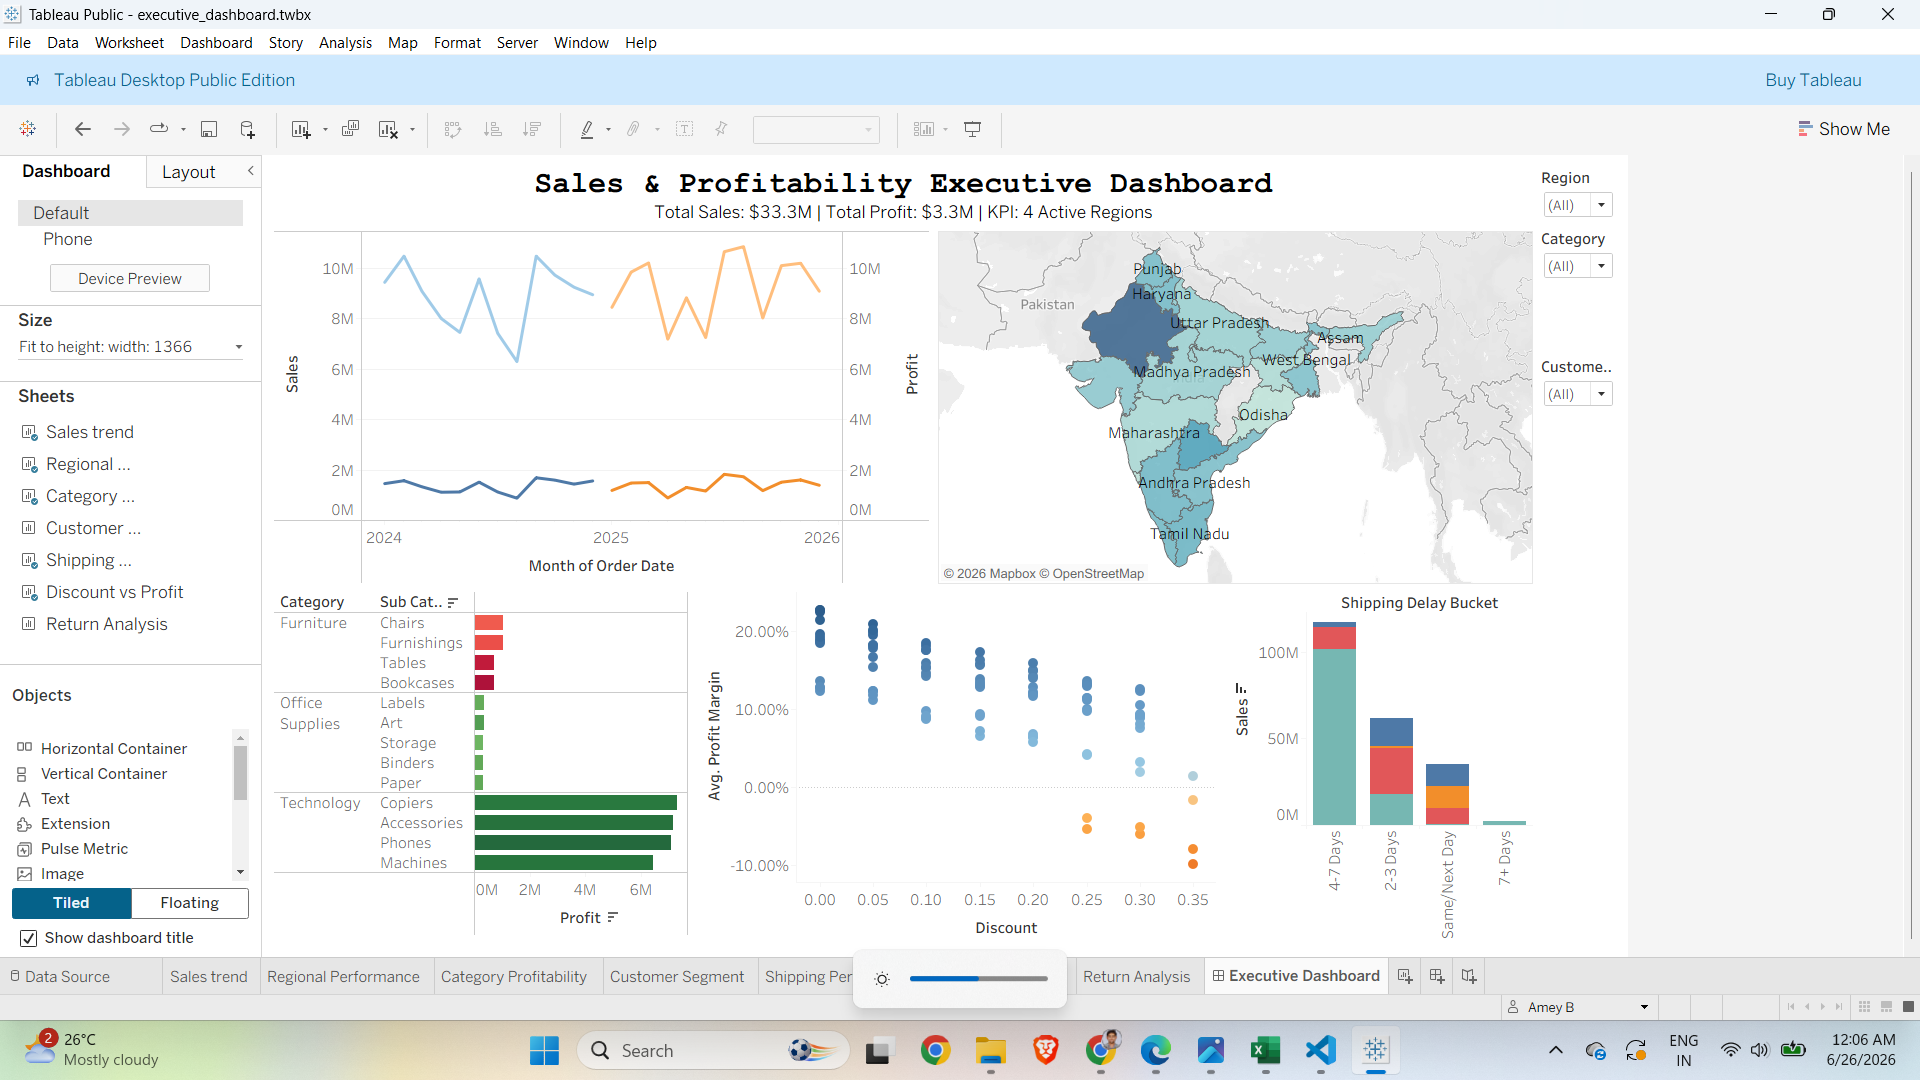

The dashboard page shown, as its layout file describes it:
{"tool":"tableau","page":{"name":"Executive Dashboard","canvas":[1000,1000],"units":"permille","ordinal":0},"visuals":[{"type":"title","box":[5.9,10,927.5,79.8]},{"type":"filter","title":"Sales trend","param":"[federated.1iebiw10bxbxkd13mzcti1a54hbl].[none:region:nk]","box":[933.4,10,60.8,76.1]},{"type":"filter","title":"Sales trend","param":"[federated.1iebiw10bxbxkd13mzcti1a54hbl].[none:category:nk]","box":[933.4,86,60.8,159.6]},{"type":"worksheet","title":"Sales trend","mark":"Automatic","rows":["sales","profit"],"cols":["order_date"],"box":[5.9,89.8,486.2,450.1]},{"type":"worksheet","title":"Regional Performance","mark":"Multipolygon","box":[492.1,89.8,441.3,450.1]},{"type":"filter","title":"Sales trend","param":"[federated.1iebiw10bxbxkd13mzcti1a54hbl].[none:customer_segment:nk]","box":[933.4,245.7,60.8,76.1]},{"type":"worksheet","title":"Category Profitability","mark":"Automatic","rows":["category","sub_category"],"cols":["profit"],"box":[5.9,539.9,308.6,450.1]},{"type":"worksheet","title":"Discount vs Profit","mark":"Circle","rows":["Calculation_0745759881949184"],"cols":["discount"],"box":[314.5,539.9,387,450.1]},{"type":"worksheet","title":"Shipping Performance","mark":"Automatic","rows":["sales"],"cols":["Calculation_0745760088350725"],"box":[701.5,539.9,231.9,450.1]}]}

Visuals, with their boxes on the dashboard's canvas, which has no fixed pixel size, in thousandths of its width and height (x1, y1, x2, y2). These are canvas units, not pixel positions in the 1920x1080 screenshot, which may show the page scaled, cropped or inside an application window:
title: (6, 10, 933, 90)
"Sales trend" filter: (933, 10, 994, 86)
"Sales trend" filter: (933, 86, 994, 246)
"Sales trend" worksheet: (6, 90, 492, 540)
"Regional Performance" worksheet (Multipolygon marks): (492, 90, 933, 540)
"Sales trend" filter: (933, 246, 994, 322)
"Category Profitability" worksheet: (6, 540, 314, 990)
"Discount vs Profit" worksheet (Circle marks): (314, 540, 702, 990)
"Shipping Performance" worksheet: (702, 540, 933, 990)
